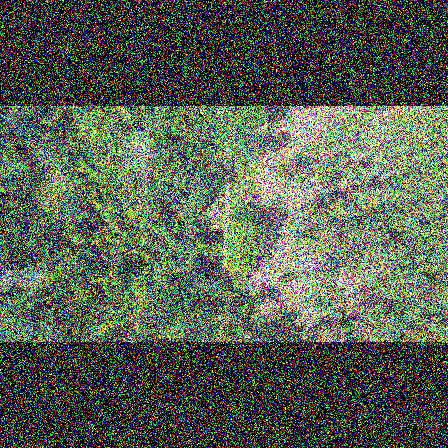Dead: (110, 123, 164, 187), (0, 264, 52, 293), (85, 251, 126, 275)
